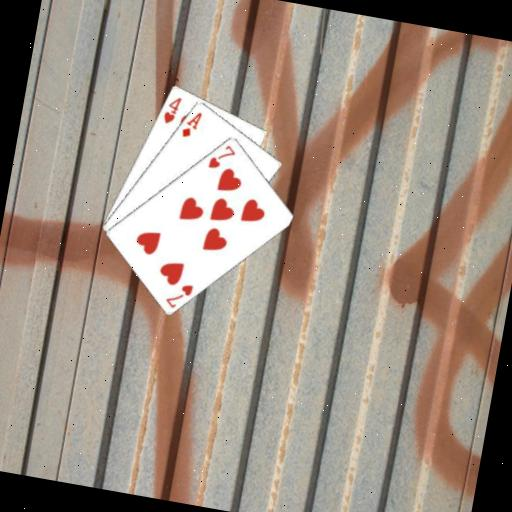4H: (159, 91, 183, 126)
7H: (160, 276, 195, 312), (204, 138, 239, 173)
AD: (177, 105, 204, 140)
